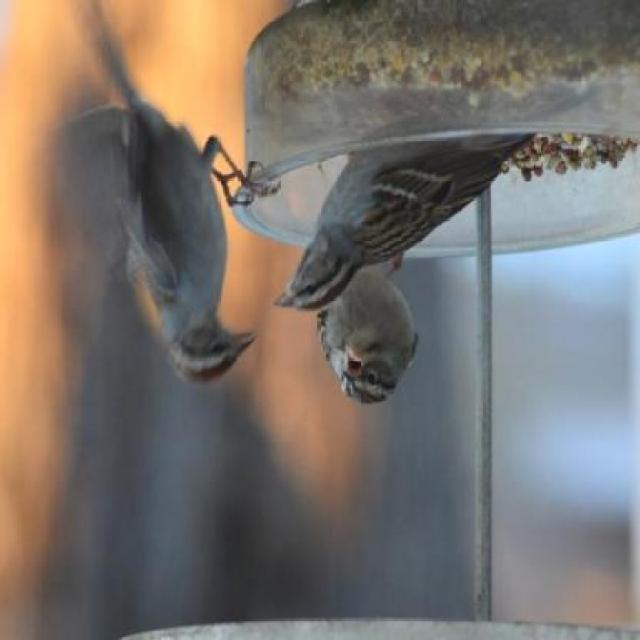Bird: (84, 32, 252, 409), (294, 129, 529, 312), (324, 277, 413, 414)
